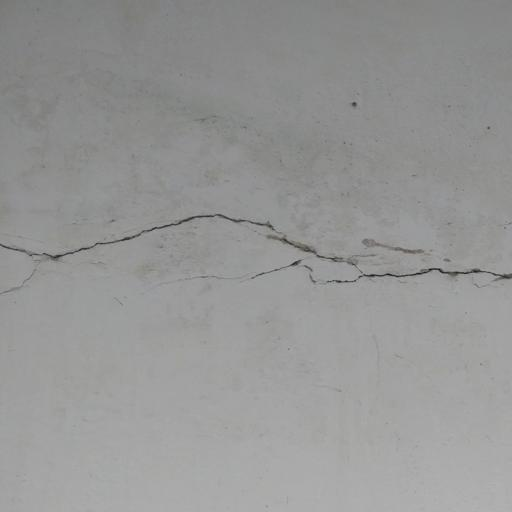major_crack: (0, 210, 512, 297)
